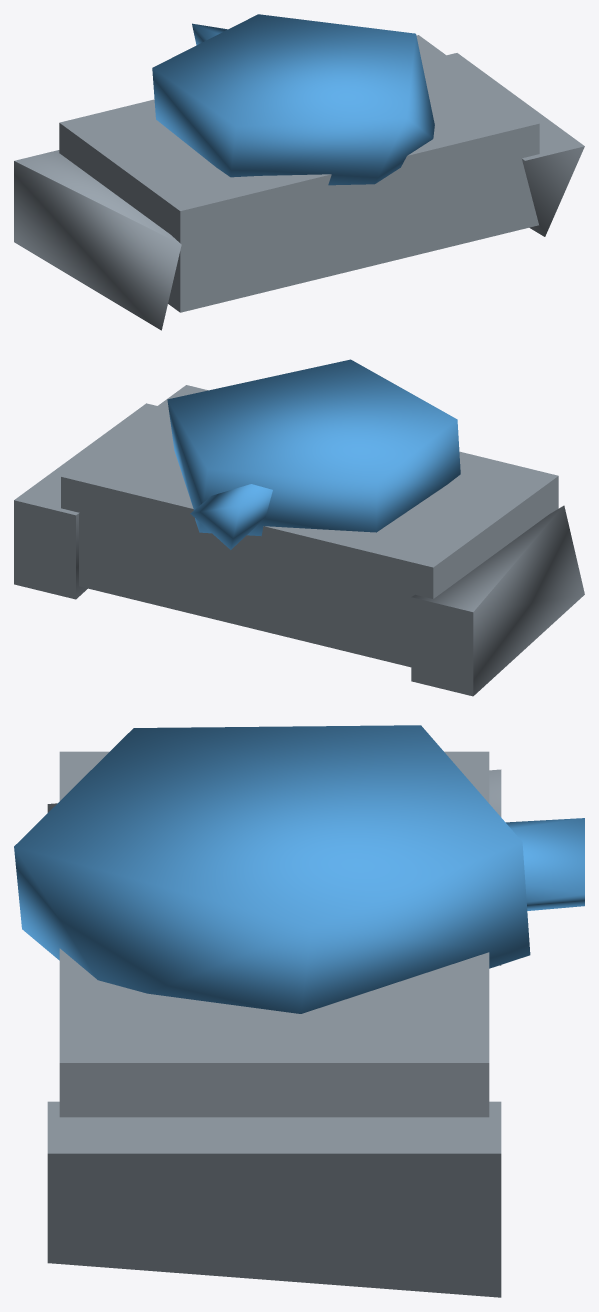
File: AL_KestrelScout_LOD2.glb
3 renders of one model, top to bottom at view 1: azimuth 30°, elevation 25°; view 2: azimuth 150°, elevation 25°; view 3: azimuth 270°, elevation 25°, orthographic. The views are drawn at different scales.
Parts seen in each view (by area): view 1: Chassis; view 2: Chassis; view 3: Chassis.
Boxes of the visible parts, x1,y1,x2,y2 form: Chassis: (14,14,584,330); Chassis: (14,359,584,696); Chassis: (14,725,584,1297).
Bounding box in the file's own units: 400 × 140 × 251.
